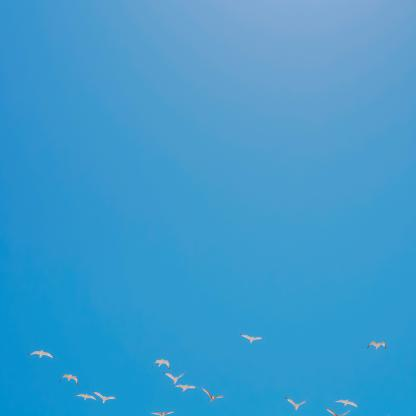bird: (201, 387, 225, 403), (92, 390, 118, 403), (285, 397, 308, 411), (28, 349, 57, 360), (162, 372, 186, 384), (59, 374, 79, 388), (333, 399, 360, 408), (240, 334, 266, 343), (151, 359, 171, 370), (173, 384, 199, 392), (326, 408, 351, 416), (367, 340, 386, 350), (74, 394, 98, 401), (150, 411, 176, 415)
